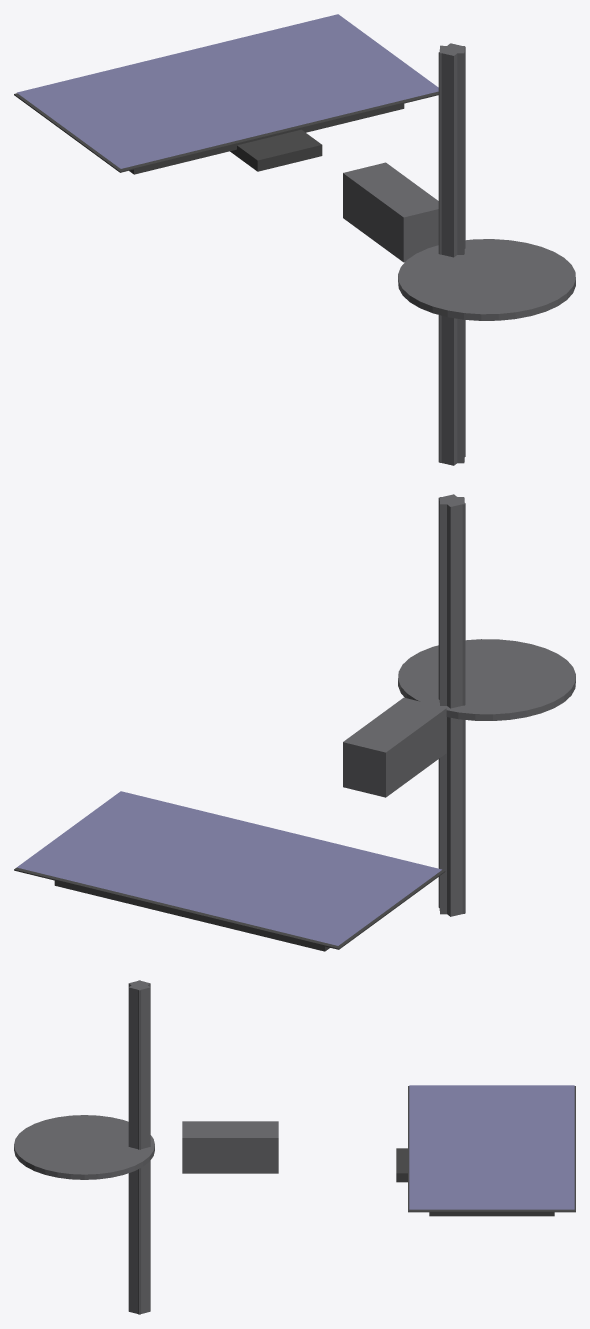
The model's file is Blitz27.glb.
3 views of the same model, one above another, from view 1: azimuth 30°, elevation 25°; view 2: azimuth 150°, elevation 25°; view 3: azimuth 270°, elevation 25° (orthographic). The views are drawn at different scales.
Parts seen in each view (by area): view 1: Blitz27; view 2: Blitz27; view 3: Blitz27.
Boxes of the visible parts, x1,y1,x2,y2 form: Blitz27: [14, 14, 575, 465]; Blitz27: [14, 494, 575, 951]; Blitz27: [14, 980, 575, 1314].
Size of the model in its own units: 0.302 by 0.364 by 0.5717.
